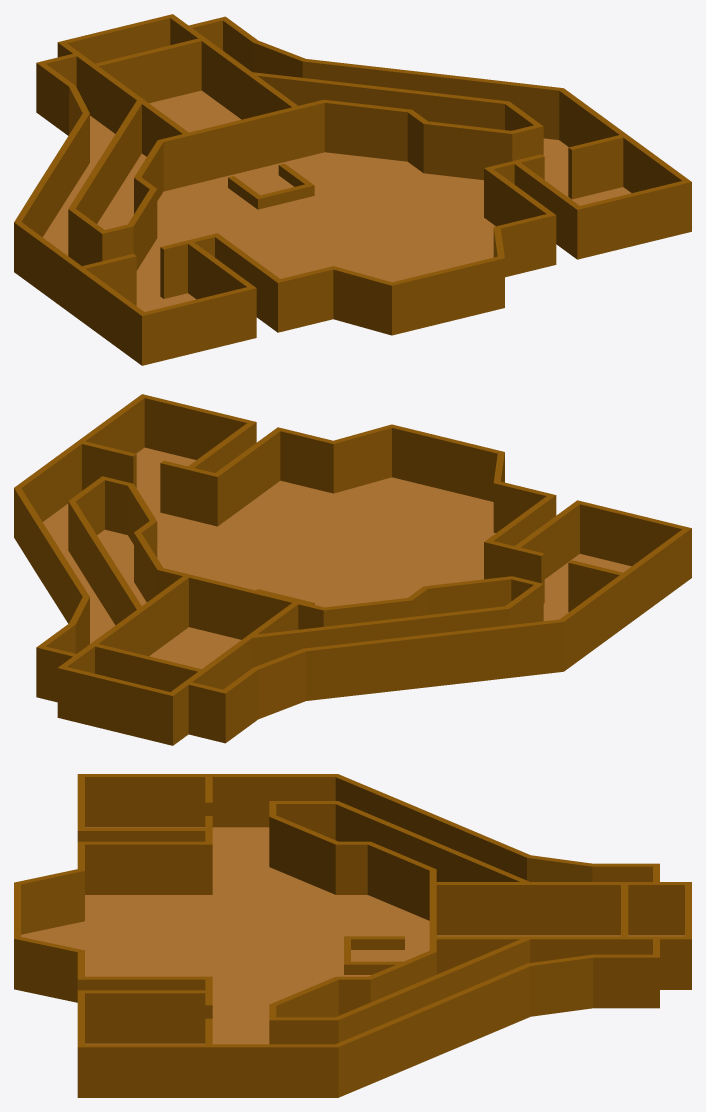
Rendered from Saloon.fbx.
3 views of the same model, one above another, from view 1: azimuth 30°, elevation 25°; view 2: azimuth 150°, elevation 25°; view 3: azimuth 270°, elevation 25° (orthographic).
Parts seen in each view (by area): view 1: Plane.001, Plane; view 2: Plane.001, Plane; view 3: Plane.001, Plane.
Part boxes in pixels (x1,y1,x2,y2): Plane.001: (14,14,691,365); Plane: (43,90,631,311); Plane.001: (14,394,691,745); Plane: (43,447,631,668); Plane.001: (14,774,691,1097); Plane: (21,827,684,1044).
Size of the model in its own units: 8742 by 756 by 9174.
